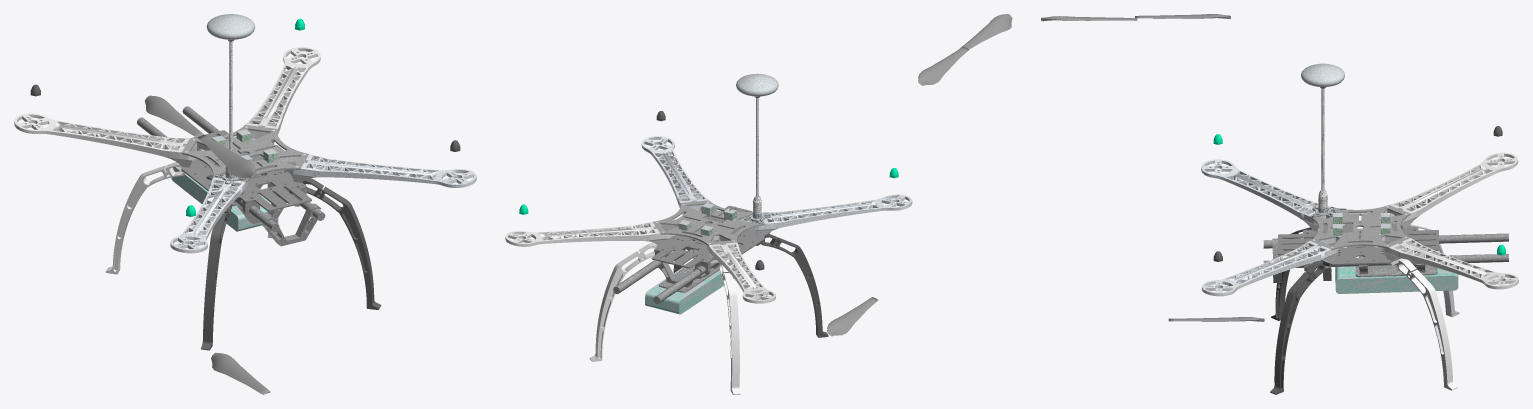
File: drone.glb
3 renders of one model, left to right at view 1: azimuth 30°, elevation 25°; view 2: azimuth 150°, elevation 25°; view 3: azimuth 270°, elevation 25°, orthographic. The views are drawn at different scales.
Visible parts, largest first — view 1: instance_16, instance_17, instance_15.016, instance_19, instance_14, instance_18, instance_215.004, instance_216.004, instance_9, instance_23.005, group_1.002, instance_20.004 (+6 smaller); view 2: instance_19, instance_18, instance_14, instance_15.016, instance_17, instance_16, instance_9, instance_20.004, instance_21.004, instance_23.005, instance_215.004, group_1.001 (+5 smaller); view 3: instance_14, instance_16, instance_17, instance_15.016, instance_19, instance_18, instance_9, instance_216.004, instance_21.004, instance_23.005, instance_12, instance_11 (+4 smaller).
Part boxes in pixels (x1=…): instance_16: x1=14, y1=113, x2=210, y2=167; instance_17: x1=279, y1=154, x2=476, y2=187; instance_15.016: x1=181, y1=130, x2=311, y2=211; instance_19: x1=245, y1=47, x2=320, y2=143; instance_14: x1=181, y1=124, x2=308, y2=182; instance_18: x1=170, y1=173, x2=247, y2=253; instance_215.004: x1=201, y1=198, x2=241, y2=350; instance_216.004: x1=302, y1=178, x2=381, y2=309; instance_9: x1=171, y1=166, x2=277, y2=231; instance_23.005: x1=206, y1=14, x2=255, y2=39; group_1.002: x1=198, y1=134, x2=256, y2=178; instance_20.004: x1=105, y1=162, x2=185, y2=274; instance_19: x1=505, y1=221, x2=678, y2=246; instance_18: x1=738, y1=194, x2=912, y2=237; instance_14: x1=653, y1=200, x2=764, y2=246; instance_15.016: x1=651, y1=205, x2=764, y2=268; instance_17: x1=641, y1=136, x2=708, y2=218; instance_16: x1=706, y1=236, x2=775, y2=303; instance_9: x1=645, y1=267, x2=733, y2=314; instance_20.004: x1=710, y1=260, x2=740, y2=394; instance_21.004: x1=589, y1=242, x2=657, y2=361; instance_23.005: x1=736, y1=73, x2=778, y2=96; instance_215.004: x1=759, y1=233, x2=828, y2=337; group_1.001: x1=827, y1=297, x2=877, y2=336; instance_14: x1=1309, y1=205, x2=1410, y2=250; instance_16: x1=1384, y1=152, x2=1518, y2=229; instance_17: x1=1201, y1=238, x2=1339, y2=296; instance_15.016: x1=1278, y1=220, x2=1438, y2=265; instance_19: x1=1381, y1=236, x2=1518, y2=289; instance_18: x1=1201, y1=159, x2=1344, y2=231; instance_9: x1=1335, y1=266, x2=1458, y2=293; instance_216.004: x1=1270, y1=261, x2=1332, y2=394; instance_21.004: x1=1386, y1=258, x2=1457, y2=390; instance_23.005: x1=1301, y1=63, x2=1344, y2=86; instance_12: x1=1263, y1=233, x2=1508, y2=248; instance_11: x1=1263, y1=253, x2=1508, y2=267.
Size of the model in its own units: 0.4239 by 0.3776 by 0.5841.
Materials: 18 (6 with a texture image).
